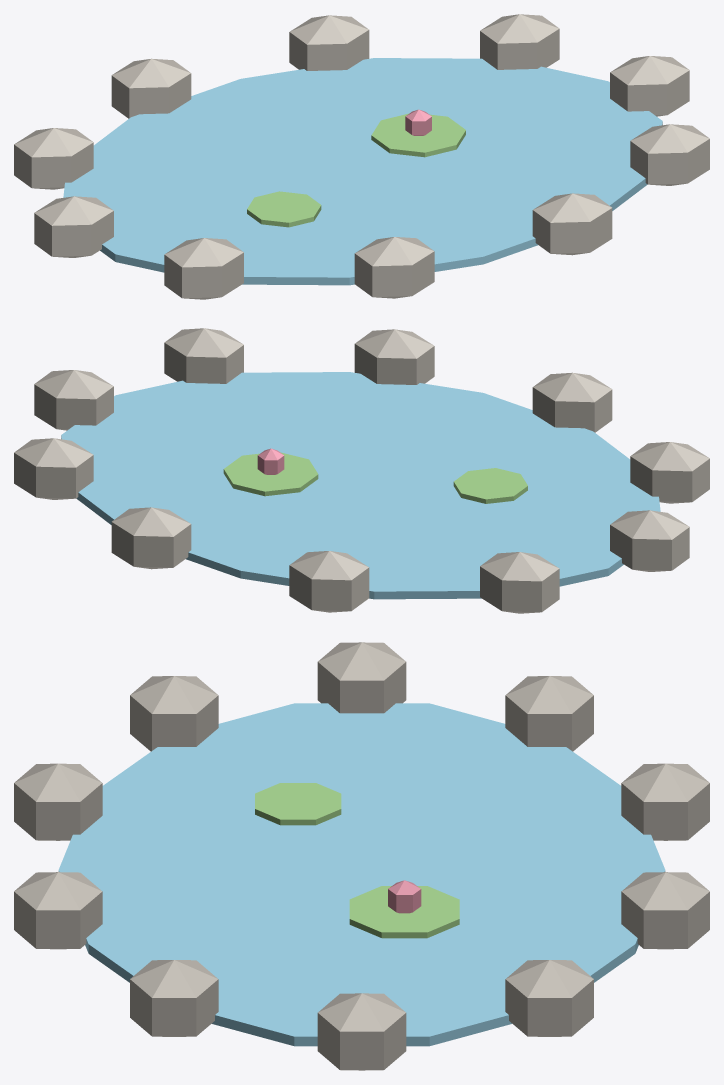
The model's file is pond.glb.
3 renders of one model, top to bottom at view 1: azimuth 30°, elevation 25°; view 2: azimuth 150°, elevation 25°; view 3: azimuth 270°, elevation 25°, orthographic. The views are drawn at different scales.
Visible parts, largest first — view 1: Player; view 2: Player; view 3: Player.
Part boxes in pixels (x1,y1,x2,y2): Player: (14,14,709,299); Player: (14,328,709,613); Player: (14,642,709,1070).
Size of the model in its own units: 4.32 by 0.4 by 3.27.
